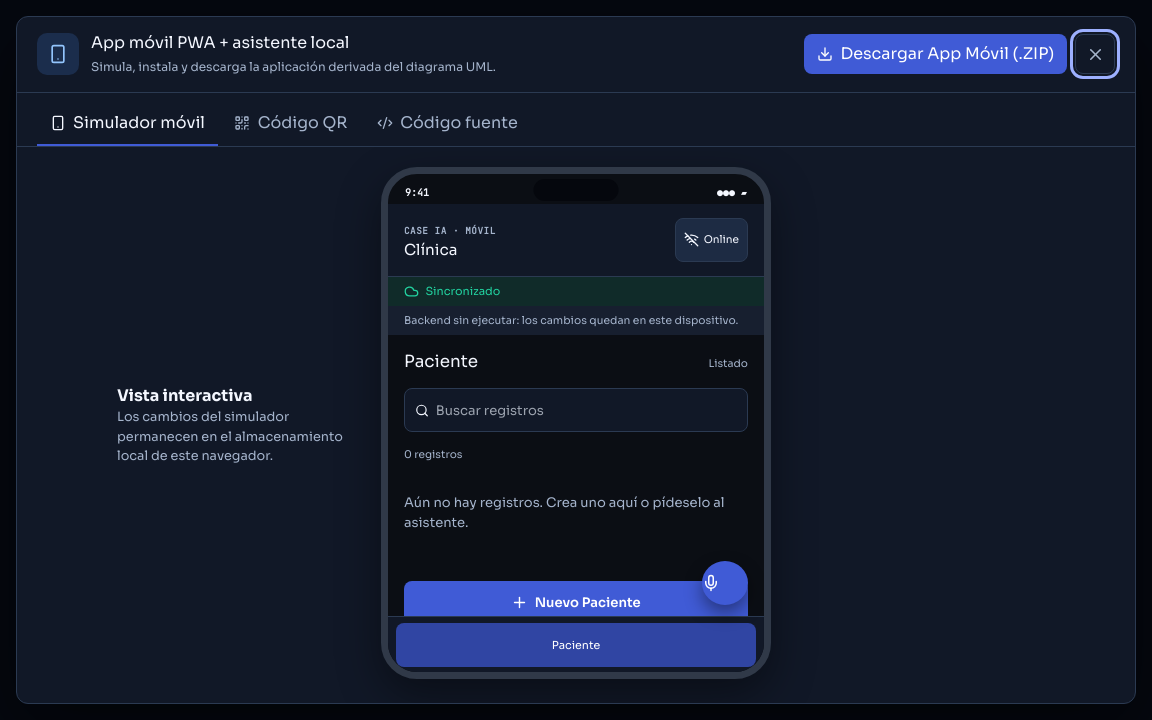
Scenario: MobileAppModal (CU-15/CU-16) › genera la app y muestra un simulador CRUD interactivo
Expected: the heading "App móvil PWA + asistente local" is shown, [91, 32, 349, 53]
Step 1. Click the button "Nuevo Paciente" → click(576, 603), box [404, 581, 748, 625]
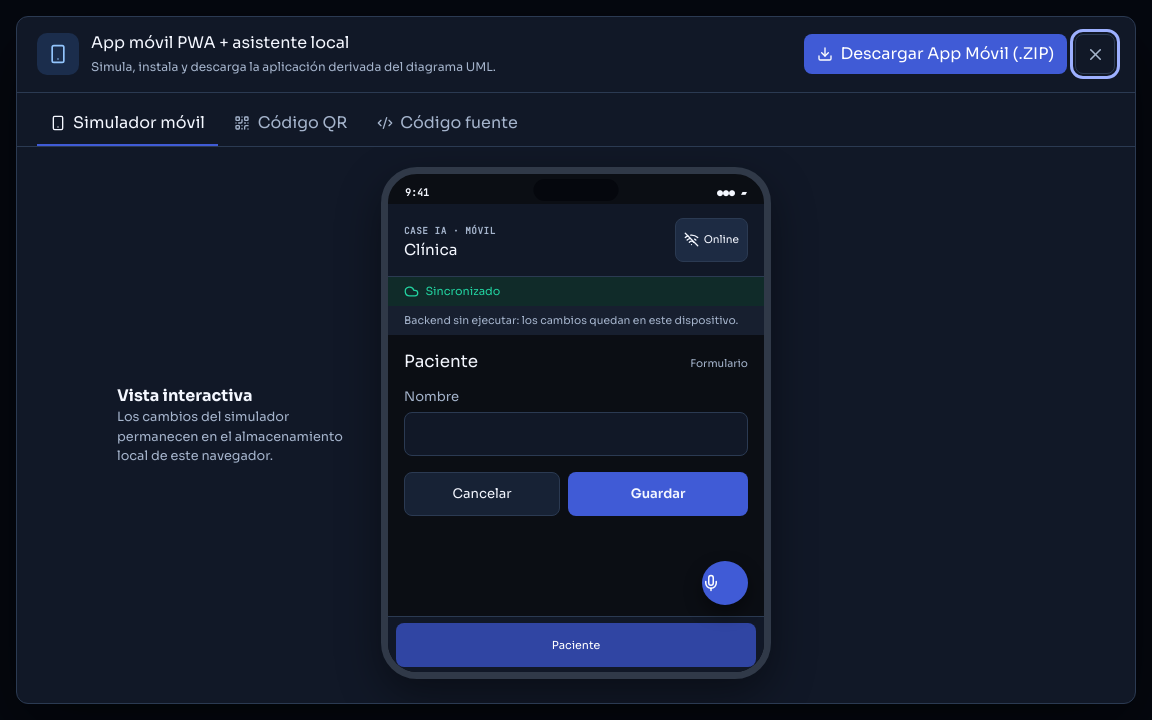
Step 2. Type "Ana" into the field labelled "Nombre" → (576, 434), box [404, 412, 748, 456]
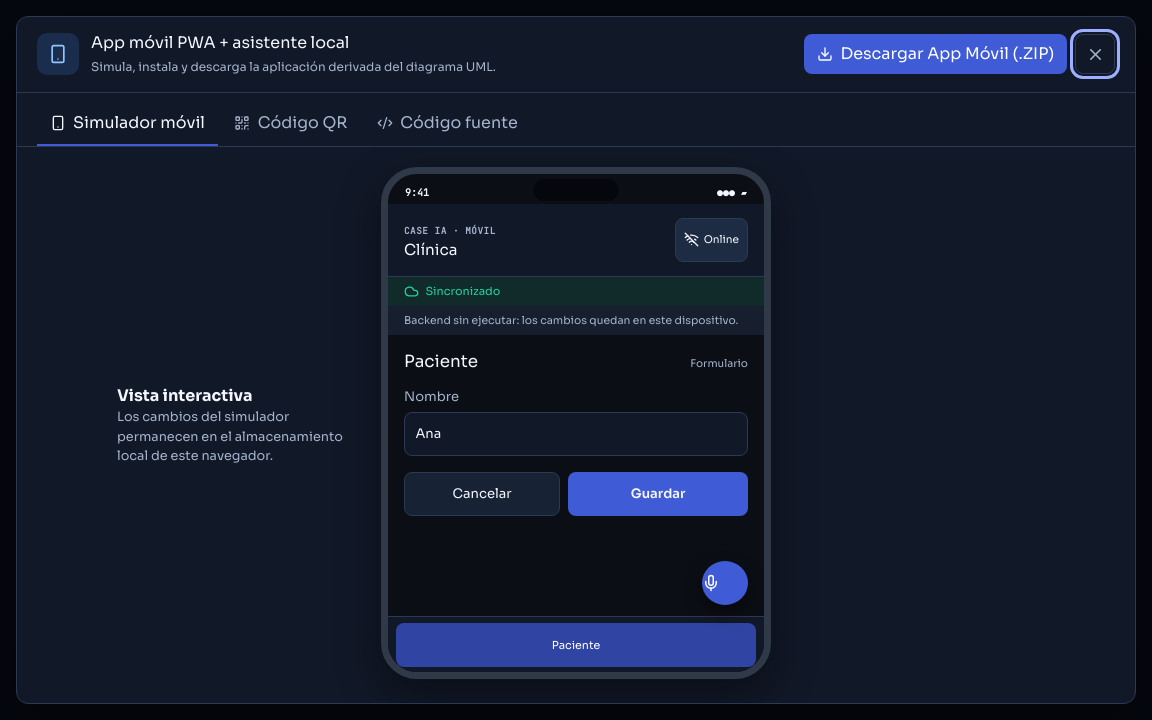
Step 3. Click the button "Guardar" → click(658, 494), box [568, 472, 748, 516]
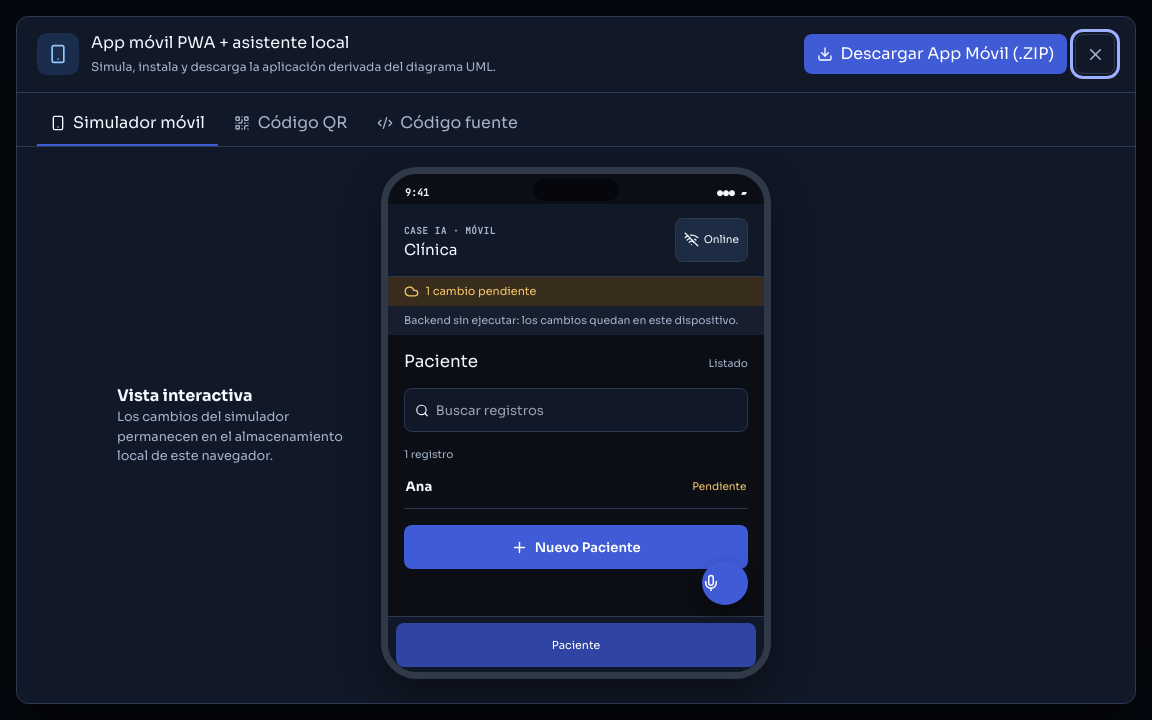
Now the text "Ana" is shown, box [406, 478, 432, 495]
